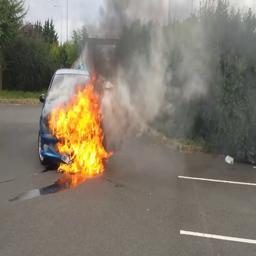fire: (50, 74, 114, 177)
